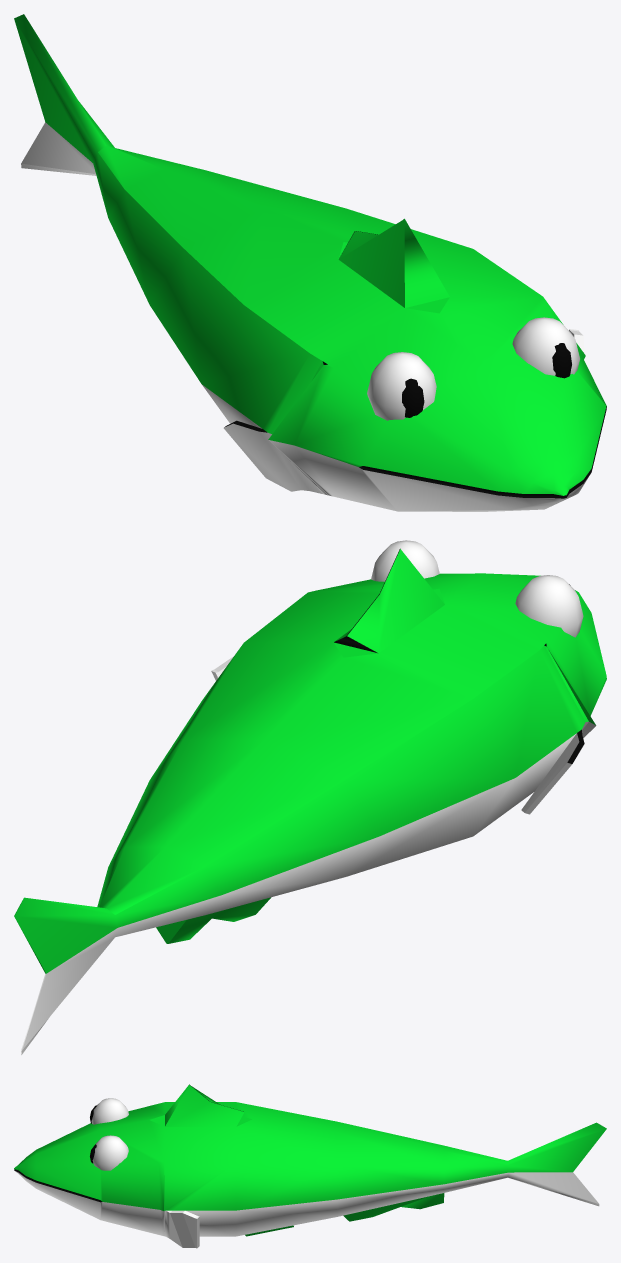
File: pezSardina2.fbx
3 renders of one model, top to bottom at view 1: azimuth 30°, elevation 25°; view 2: azimuth 150°, elevation 25°; view 3: azimuth 270°, elevation 25°, orthographic. The views are drawn at different scales.
Parts seen in each view (by area): view 1: Cylinder004, Sphere005, Sphere007, Sphere006; view 2: Cylinder004, Sphere005, Sphere007; view 3: Cylinder004, Sphere007, Sphere005.
Part boxes in pixels (x1,y1,x2,y2): Cylinder004: [14, 14, 606, 511]; Sphere005: [367, 352, 436, 420]; Sphere007: [512, 317, 579, 375]; Sphere006: [402, 378, 424, 417]; Cylinder004: [14, 548, 606, 1054]; Sphere005: [515, 575, 583, 637]; Sphere007: [371, 540, 439, 581]; Cylinder004: [14, 1084, 606, 1248]; Sphere007: [92, 1135, 128, 1170]; Sphere005: [91, 1098, 128, 1124].
Bounding box in the file's own units: 79.91 × 60.13 × 212.
